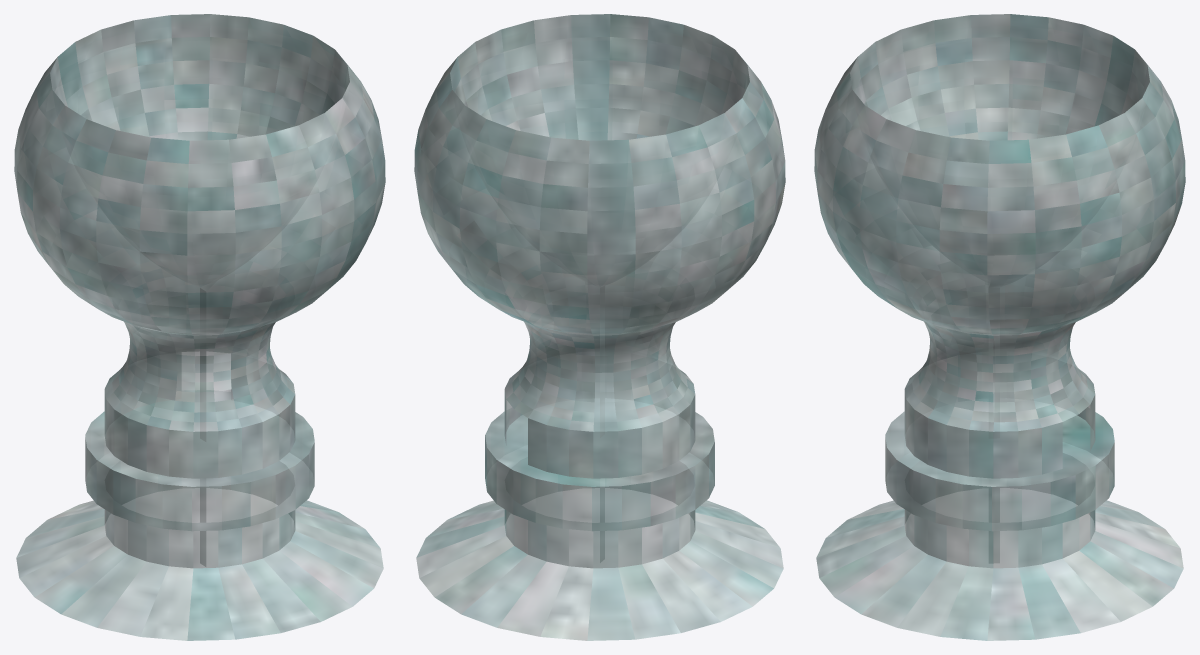
3 renders of one model, left to right at view 1: azimuth 30°, elevation 25°; view 2: azimuth 150°, elevation 25°; view 3: azimuth 270°, elevation 25°, orthographic.
Parts seen in each view (by area): view 1: mesh2_mesh2-geometry, mesh1_mesh1-geometry; view 2: mesh2_mesh2-geometry, mesh1_mesh1-geometry; view 3: mesh2_mesh2-geometry, mesh1_mesh1-geometry.
Boxes of the visible parts, x1,y1,x2,y2 form: mesh2_mesh2-geometry: (14, 14, 385, 566); mesh1_mesh1-geometry: (16, 390, 383, 640); mesh2_mesh2-geometry: (414, 14, 785, 562); mesh1_mesh1-geometry: (416, 398, 783, 640); mesh2_mesh2-geometry: (814, 14, 1185, 562); mesh1_mesh1-geometry: (816, 398, 1183, 640).
Bounding box in the file's own units: 0.4946 × 0.7147 × 0.4946.
